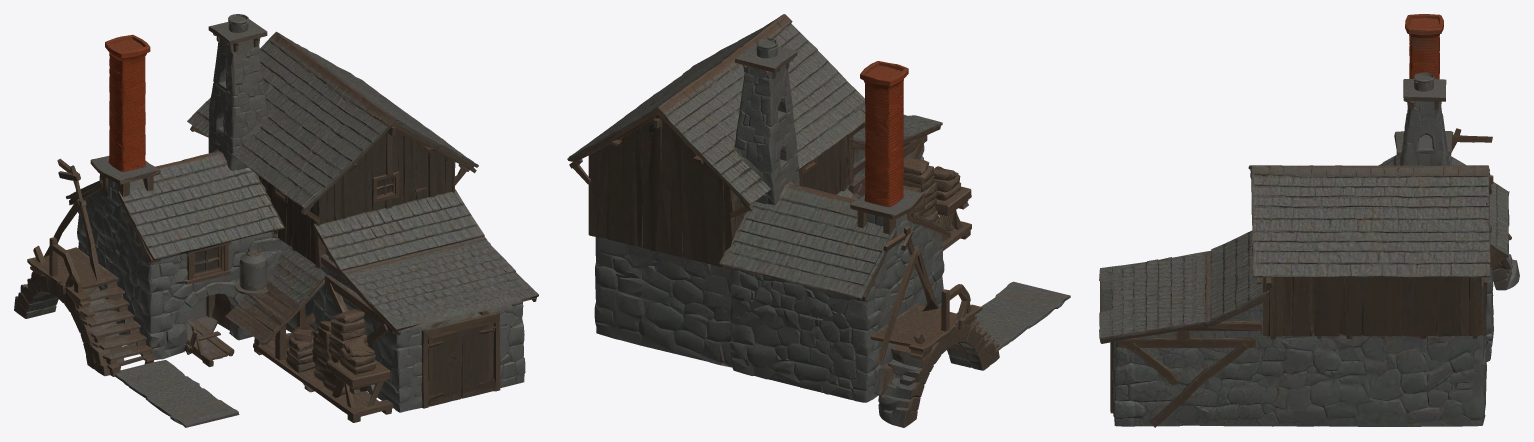
File: refinery.glb
3 views of the same model, side by side, from view 1: azimuth 30°, elevation 25°; view 2: azimuth 150°, elevation 25°; view 3: azimuth 270°, elevation 25° (orthographic). The views are drawn at different scales.
Size of the model in its own units: 1.77 by 1.43 by 1.9.
Materials: 1 (1 with a texture image).
